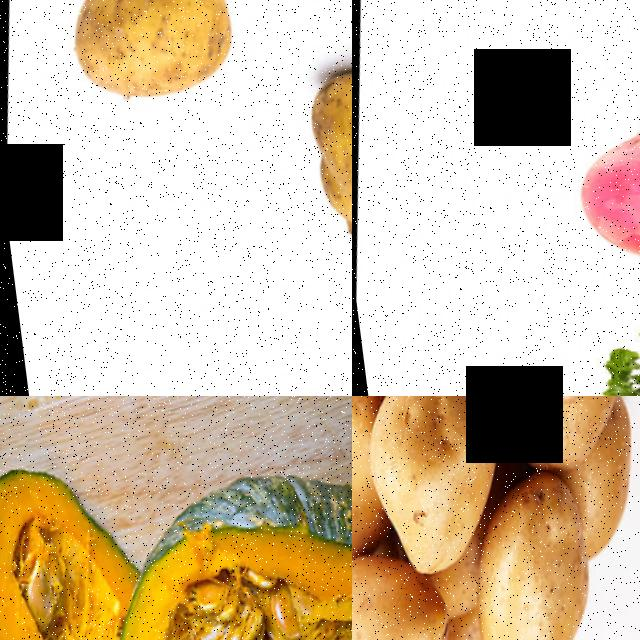potato: (435, 467, 605, 640), (352, 396, 506, 581), (48, 0, 249, 122), (464, 396, 640, 480), (282, 71, 352, 250), (352, 553, 458, 640), (352, 396, 393, 601)
pumpkin: (73, 440, 352, 640), (0, 459, 172, 640)
radishes: (521, 93, 640, 396)
